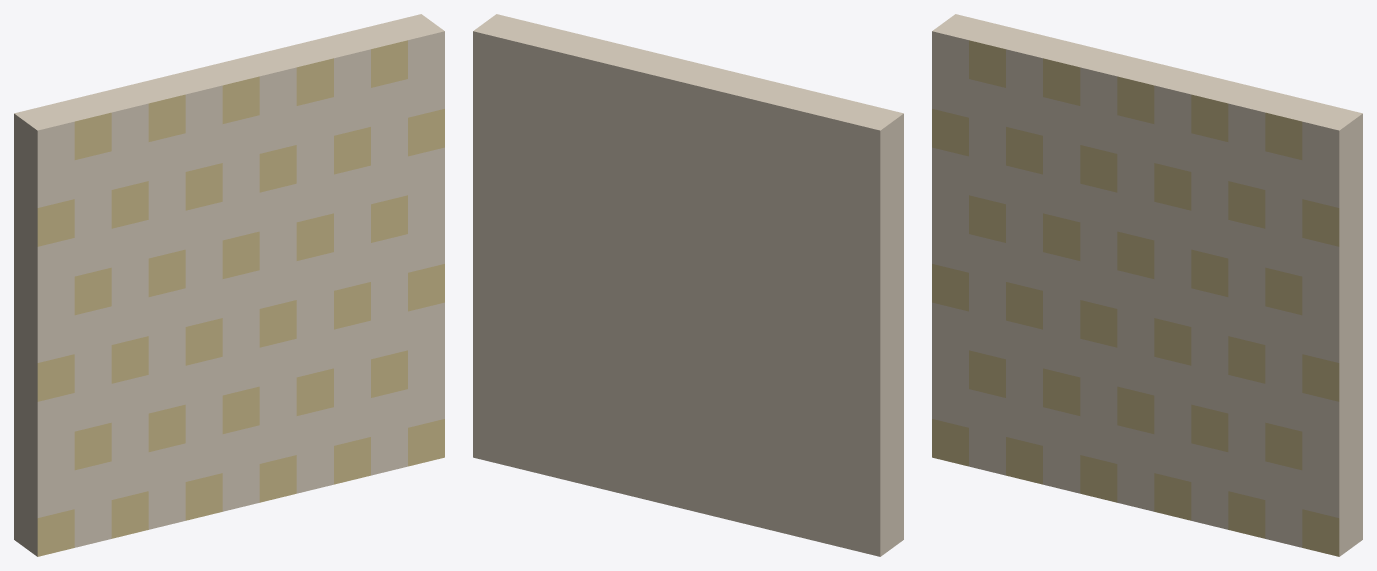
The model's file is Wall.fbx.
3 views of the same model, side by side, from view 1: azimuth 30°, elevation 25°; view 2: azimuth 150°, elevation 25°; view 3: azimuth 330°, elevation 25° (orthographic).
Visible parts, largest first — view 1: Cube; view 2: Cube; view 3: Cube.
Boxes of the visible parts, x1=… form: Cube: x1=14, y1=14, x2=444, y2=556; Cube: x1=473, y1=14, x2=903, y2=556; Cube: x1=932, y1=14, x2=1362, y2=556.
Size of the model in its own units: 400 by 400 by 40.
